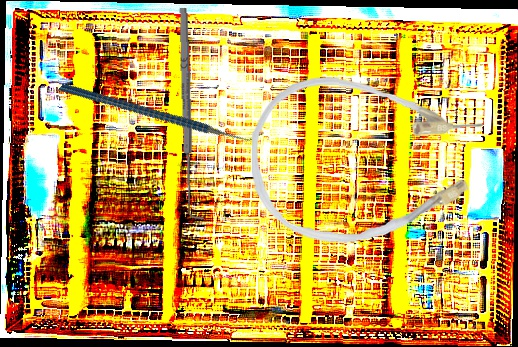Cannula: (250, 74, 484, 247)
Chopper: (58, 21, 265, 201)
Hook Surgical: (176, 7, 205, 220)
